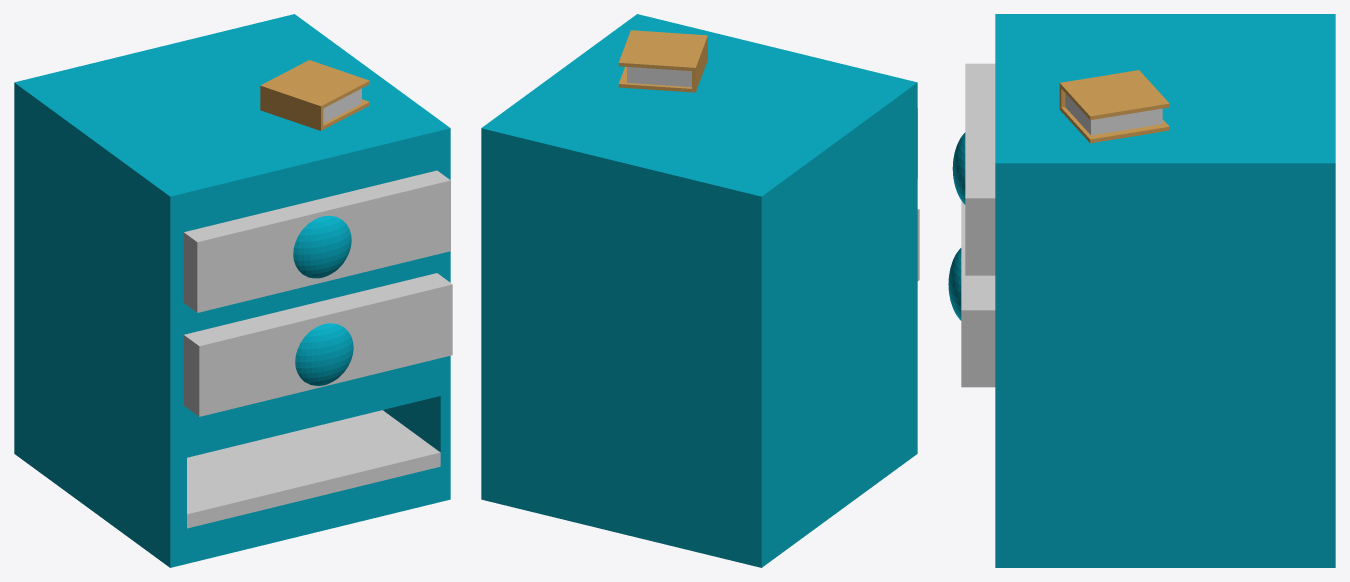
Rendered from PRO-C149.glb.
3 views of the same model, side by side, from view 1: azimuth 30°, elevation 25°; view 2: azimuth 150°, elevation 25°; view 3: azimuth 270°, elevation 25° (orthographic). The views are drawn at different scales.
Visible parts, largest first — view 1: Mesh_Mesh_head_geo.001_lambert2SG.001; view 2: Mesh_Mesh_head_geo.001_lambert2SG.001; view 3: Mesh_Mesh_head_geo.001_lambert2SG.001.
Part boxes in pixels (left/top/right/bottom): Mesh_Mesh_head_geo.001_lambert2SG.001: left=14, top=14, right=452, bottom=567; Mesh_Mesh_head_geo.001_lambert2SG.001: left=481, top=14, right=919, bottom=567; Mesh_Mesh_head_geo.001_lambert2SG.001: left=948, top=14, right=1335, bottom=567.
Size of the model in its own units: 83 by 112 by 91.
